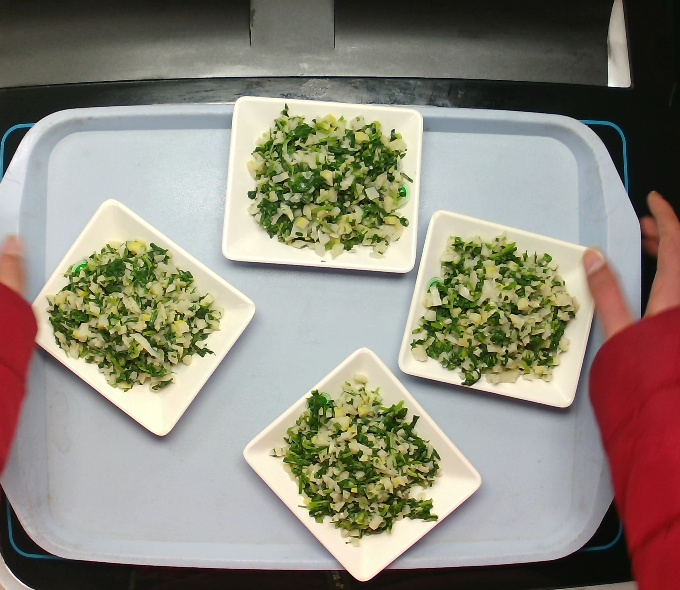wcq-MaLanTouBanChunSun: (228, 99, 432, 270), (399, 230, 596, 394), (272, 370, 445, 544), (47, 238, 228, 388)
